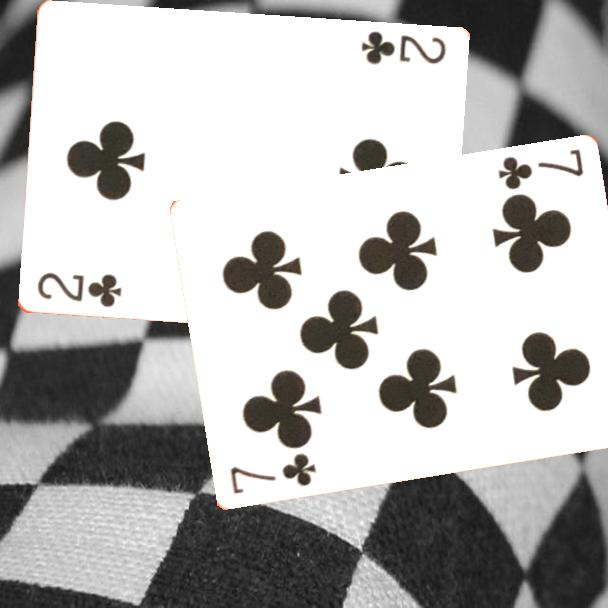c02: (33, 269, 124, 311), (357, 28, 448, 68)
c07: (226, 450, 319, 498), (494, 146, 586, 193)
